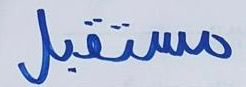heh: (193, 22, 236, 64)
lam: (15, 5, 51, 85)
noon: (107, 19, 137, 65)
qaf: (76, 14, 105, 62)
seen: (139, 19, 191, 66)
yeh: (52, 32, 75, 74)
